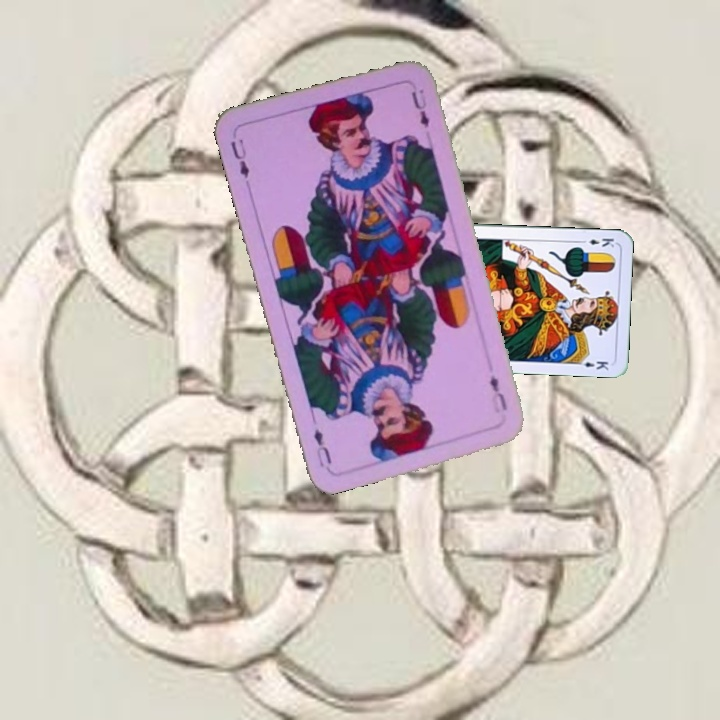EK: (576, 234, 617, 249)
EU: (227, 135, 252, 182), (485, 371, 510, 417)
